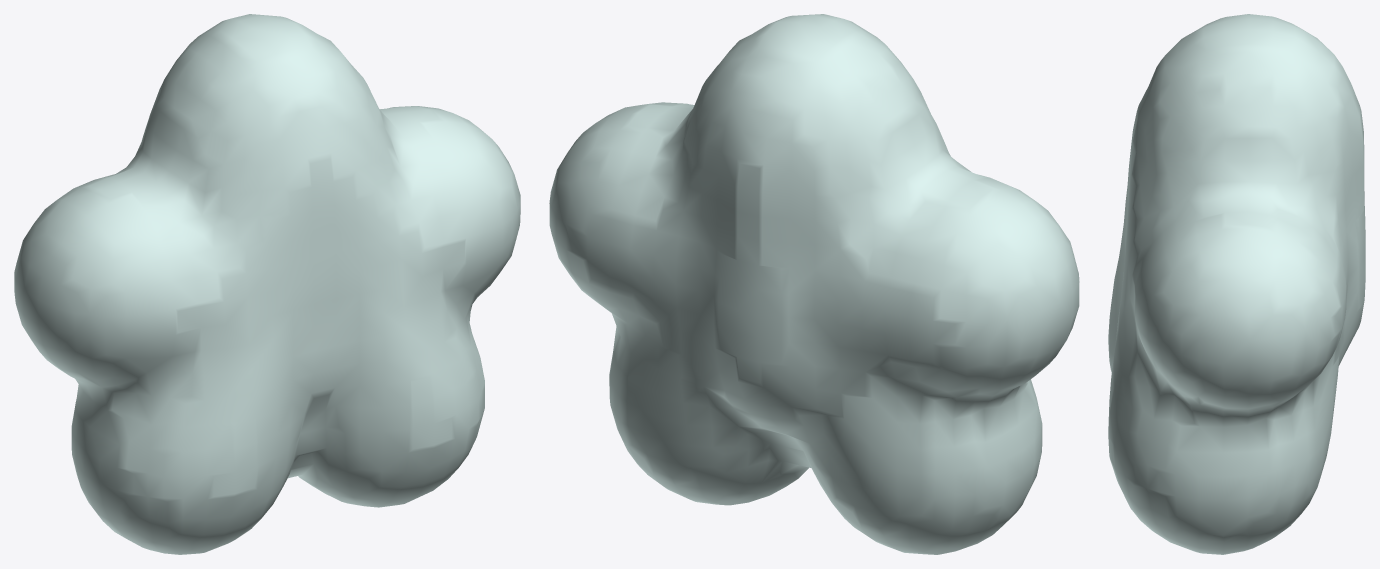
The model's file is star-transformed.glb.
3 renders of one model, left to right at view 1: azimuth 30°, elevation 25°; view 2: azimuth 150°, elevation 25°; view 3: azimuth 270°, elevation 25°, orthographic. The views are drawn at different scales.
Visible parts, largest first — view 1: model_0.001; view 2: model_0.001; view 3: model_0.001.
Part boxes in pixels (box(x1,y1,x2,y2)): model_0.001: box(14, 14, 520, 554); model_0.001: box(549, 14, 1079, 554); model_0.001: box(1108, 14, 1365, 554).
Bounding box in the file's own units: 262 × 253 × 125.
1 material, 1 textured.
